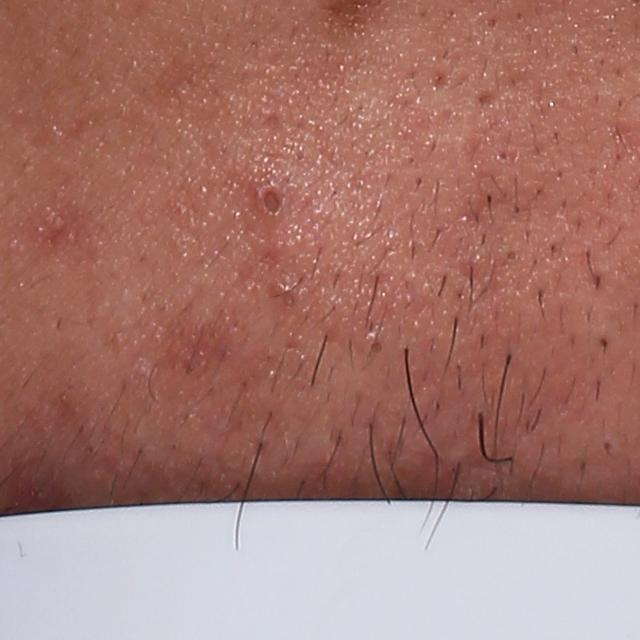atrophic_scar: (473, 88, 497, 114)
comedo: (251, 173, 292, 226)
